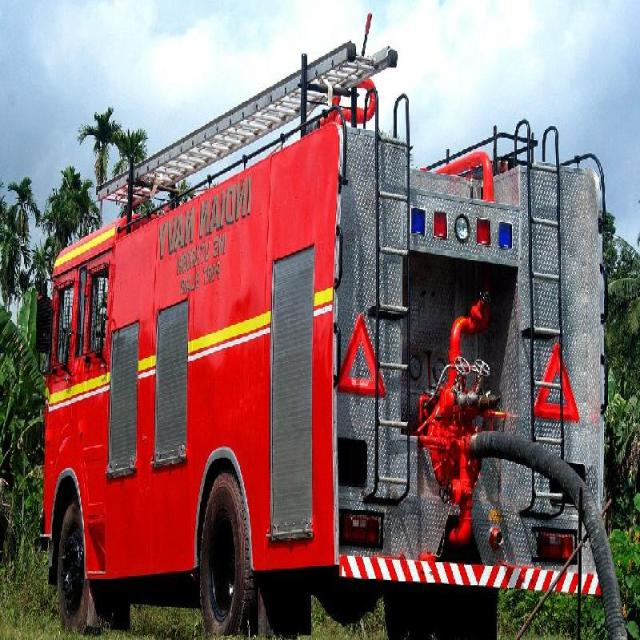emergency: (40, 42, 625, 637)
